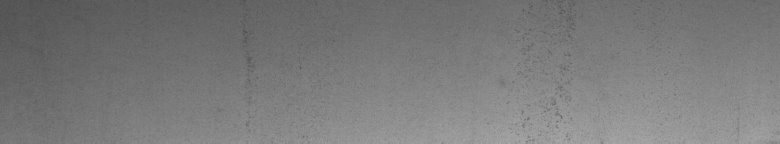ib: (500, 44, 572, 132)
